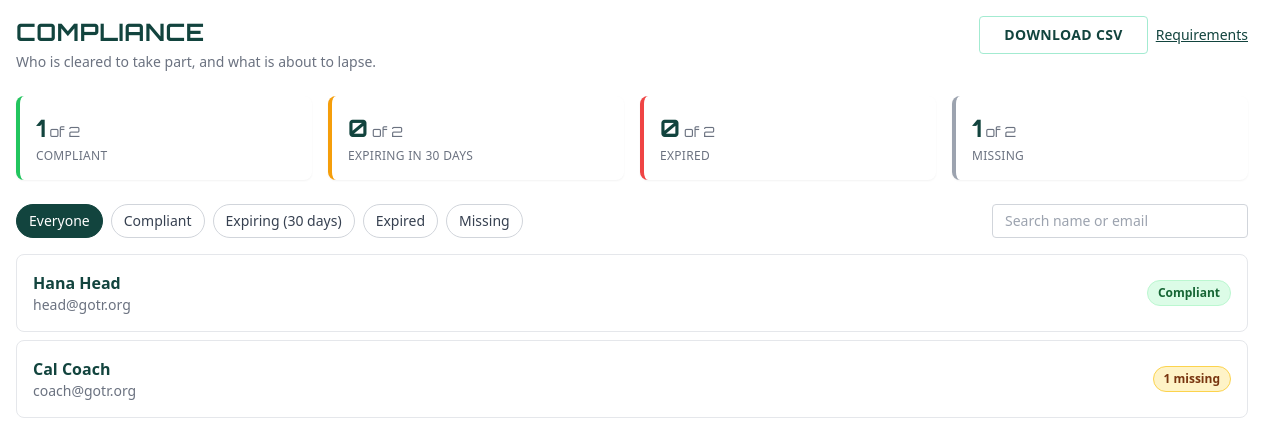
Test: ClubCompliance › search narrows what is on screen without re-asking the server
Expected: the text "Hana Head" is shown, x1=33 y1=272 x2=121 y2=294
Type "cal" into the search field labelled "Search name or email".
click(1120, 221); type("cal")  # box x1=992 y1=204 x2=1248 y2=238
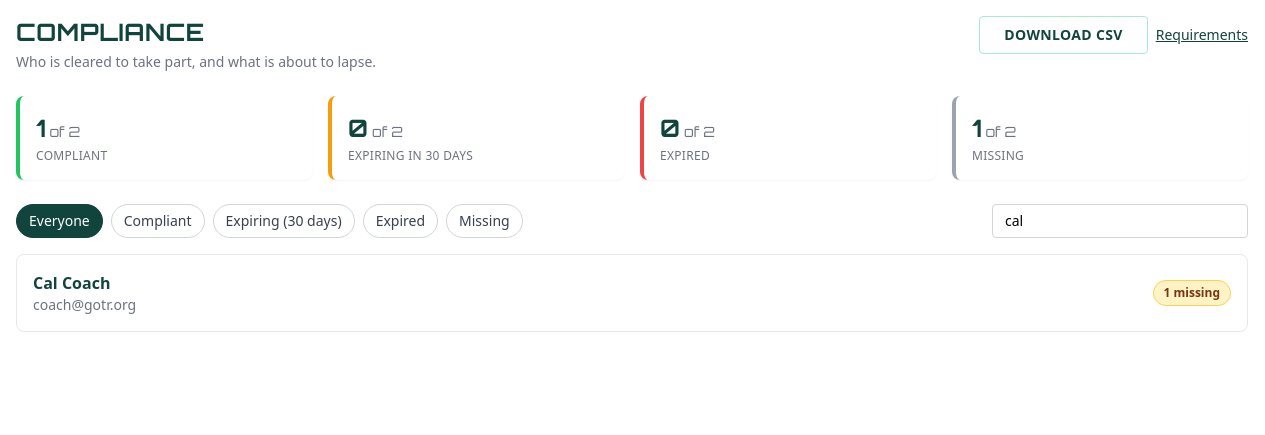
Expected: the text "Cal Coach" is shown, x1=33 y1=272 x2=110 y2=294
Result: the button "Hana Head" is gone
